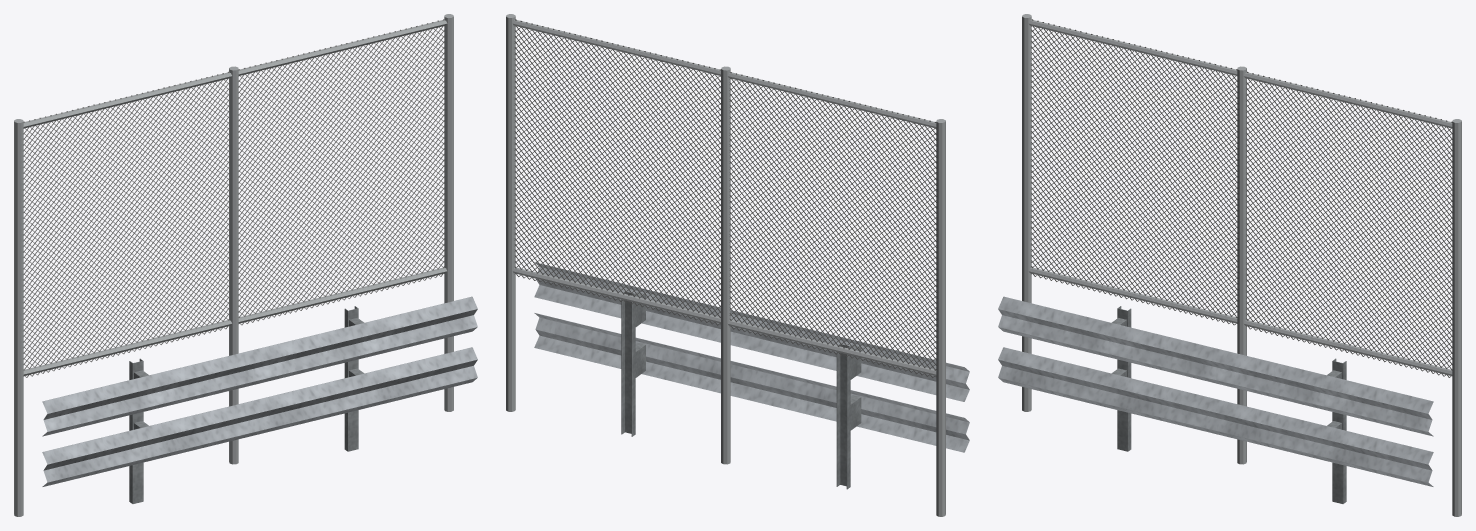
The model's file is vangrail_4m_fence.glb.
3 views of the same model, side by side, from view 1: azimuth 30°, elevation 25°; view 2: azimuth 150°, elevation 25°; view 3: azimuth 330°, elevation 25° (orthographic).
Visible parts, largest first — view 1: vangrail_4m_fence; view 2: vangrail_4m_fence; view 3: vangrail_4m_fence.
Part boxes in pixels (x1,y1,x2,y2): vangrail_4m_fence: (14, 14, 477, 516); vangrail_4m_fence: (506, 14, 969, 516); vangrail_4m_fence: (998, 14, 1461, 516).
Size of the model in its own units: 4.08 by 3.55 by 0.505.
5 materials, 3 textured.
